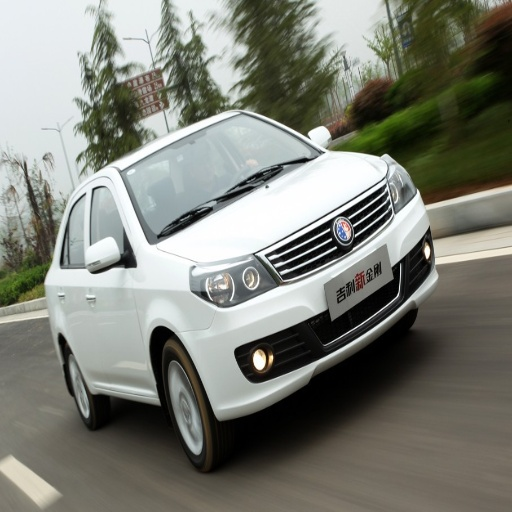front_bumper: (183, 193, 435, 421)
front_right_door: (85, 176, 141, 388)
front_right_light: (190, 265, 260, 306)
hood: (158, 148, 399, 267)
